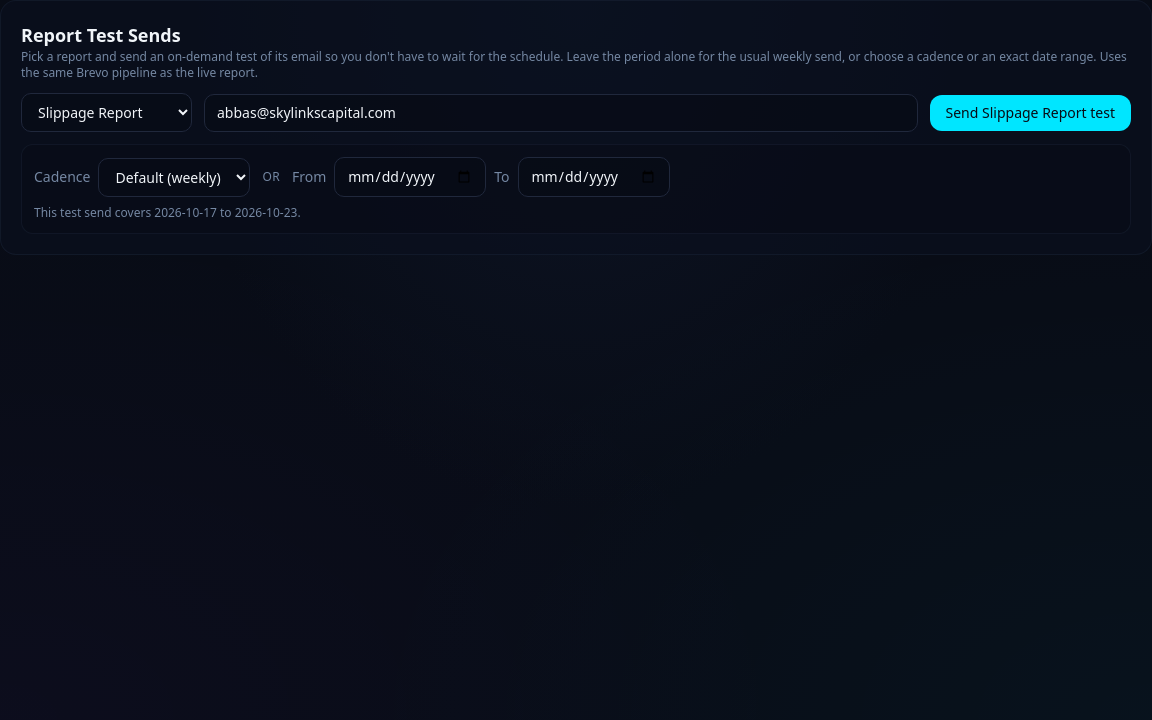
it: ReportTestSendPanel resolved period and errors › renders the server's conflict code as a sentence, not as the code
This screenshot has width=1152, height=720.
Click the button "Send Slippage Report test": [1030, 112] box [930,94,1131,130]
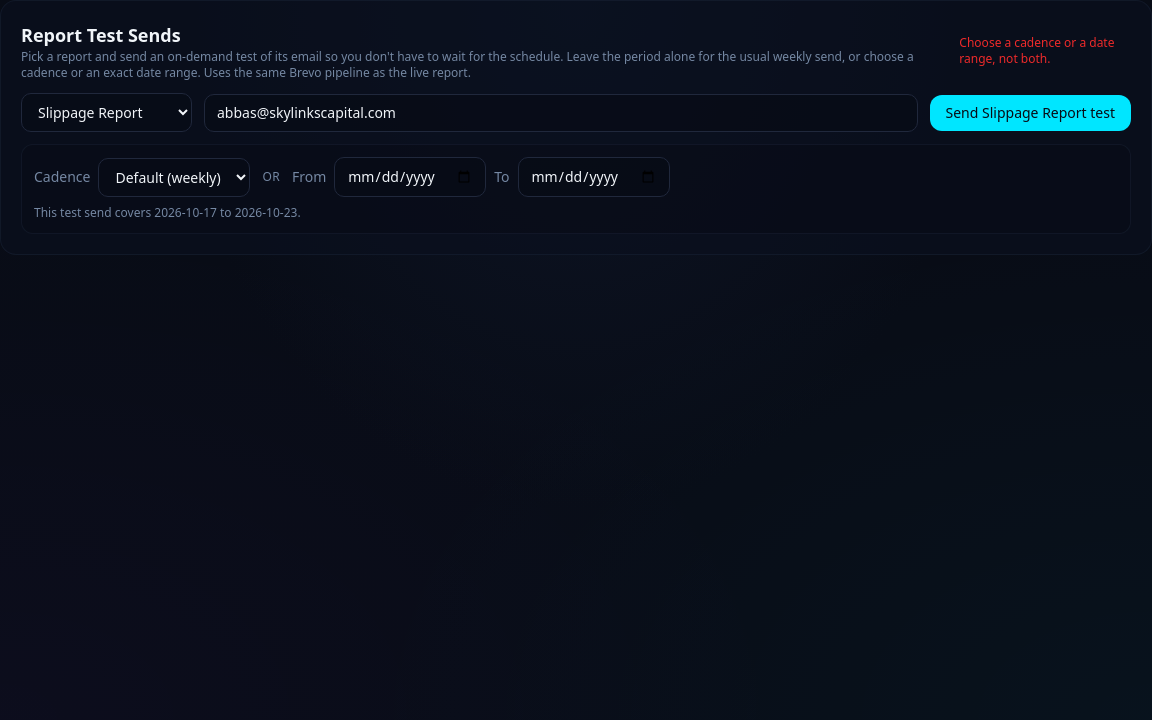
Now the text "Choose a cadence or a date range, not both." is shown, box [959,35,1131,67]
